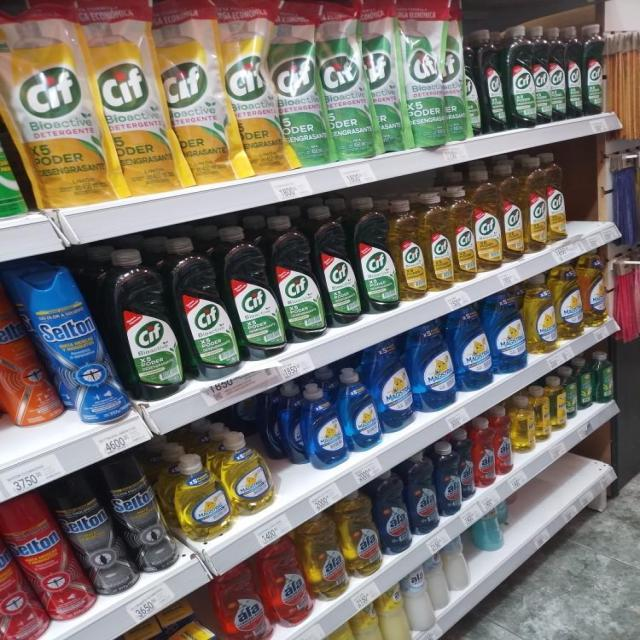ala_conc_amarillo: (304, 514, 344, 600), (342, 489, 378, 578)
ala_conc_azul: (409, 451, 437, 535), (437, 438, 460, 516), (460, 427, 474, 502)
ala_conc_rojo: (265, 540, 308, 627), (216, 565, 265, 640), (474, 417, 495, 489), (494, 407, 511, 477)
ala_crem_amarillo: (381, 583, 407, 640), (356, 601, 382, 640), (325, 619, 355, 640)
ala_crem_blanco: (407, 565, 432, 633), (429, 551, 448, 616), (448, 536, 468, 592)
cif_conc_bot_amarilla: (394, 198, 424, 300), (475, 165, 502, 273), (424, 190, 452, 292), (452, 183, 476, 284), (502, 161, 524, 261), (525, 154, 547, 252), (547, 152, 567, 244)
cif_conc_botella_verde: (112, 248, 182, 400), (180, 237, 237, 381), (231, 226, 282, 360), (278, 214, 323, 342), (319, 205, 359, 327), (358, 198, 397, 314), (506, 25, 534, 129), (480, 28, 505, 133), (583, 24, 604, 116), (549, 26, 566, 122), (566, 26, 582, 119), (534, 27, 549, 125)
cif_conc_sachet_amarillo: (5, 0, 102, 208), (100, 0, 170, 195), (169, 0, 229, 185), (227, 0, 279, 175)
cif_conc_sachet_verde: (324, 1, 373, 161), (278, 0, 324, 168), (404, 0, 444, 148), (371, 0, 404, 154), (443, 1, 468, 142)
heroe: (511, 394, 534, 454), (594, 351, 613, 403), (535, 383, 550, 444), (551, 374, 566, 432), (579, 355, 594, 410), (567, 367, 579, 418)
magistral_con_amarillo: (174, 452, 228, 542), (225, 431, 272, 516), (526, 274, 556, 354), (556, 261, 581, 341), (583, 252, 607, 328)
magistral_con_azul: (412, 319, 454, 412), (304, 382, 344, 469), (376, 338, 412, 433), (454, 304, 490, 392), (490, 288, 526, 375), (344, 367, 378, 452)
